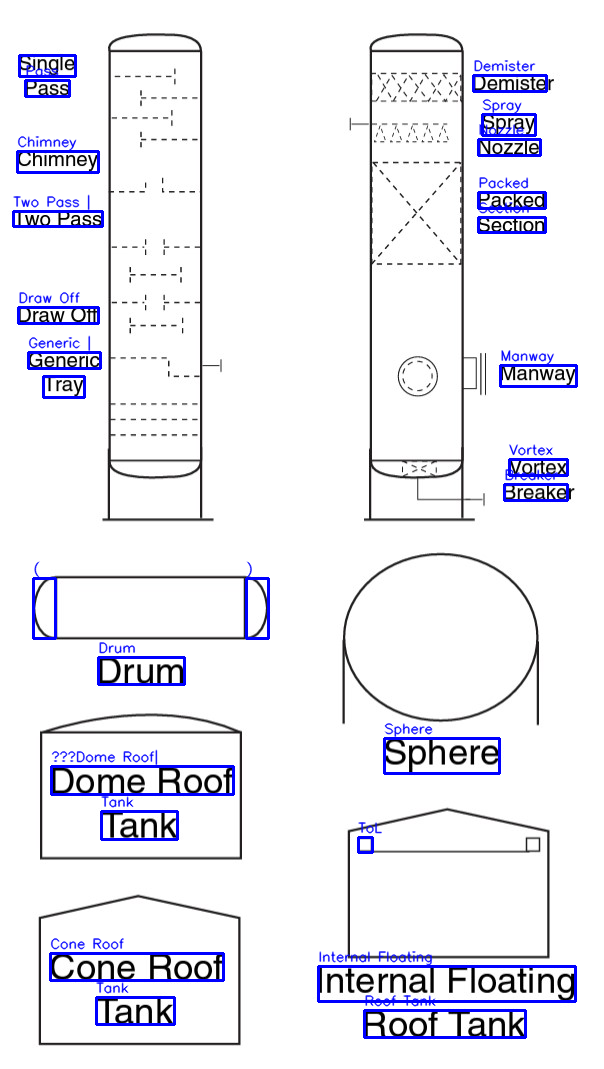Outro: (344, 29, 494, 527), (98, 27, 227, 530), (332, 545, 547, 729), (30, 572, 271, 643)
Tanque: (32, 891, 249, 1050), (343, 803, 552, 966), (33, 707, 246, 863)
